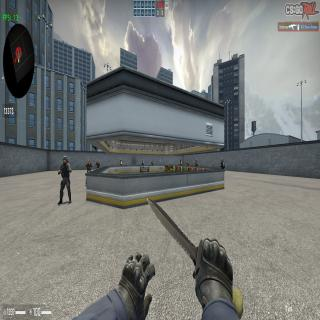CT-Body: (57, 156, 72, 205), (220, 159, 224, 169), (194, 159, 198, 166), (141, 160, 144, 165), (120, 160, 122, 166), (180, 160, 182, 165)
CT-Head: (63, 155, 67, 164), (221, 158, 223, 162), (195, 159, 197, 162), (120, 160, 122, 162), (180, 160, 181, 162), (142, 160, 143, 162)
T-Body: (86, 159, 92, 172), (96, 160, 100, 168), (186, 160, 189, 166), (151, 160, 153, 165)
T-Head: (88, 159, 90, 164), (98, 160, 99, 163), (188, 160, 188, 163), (152, 160, 152, 162)
